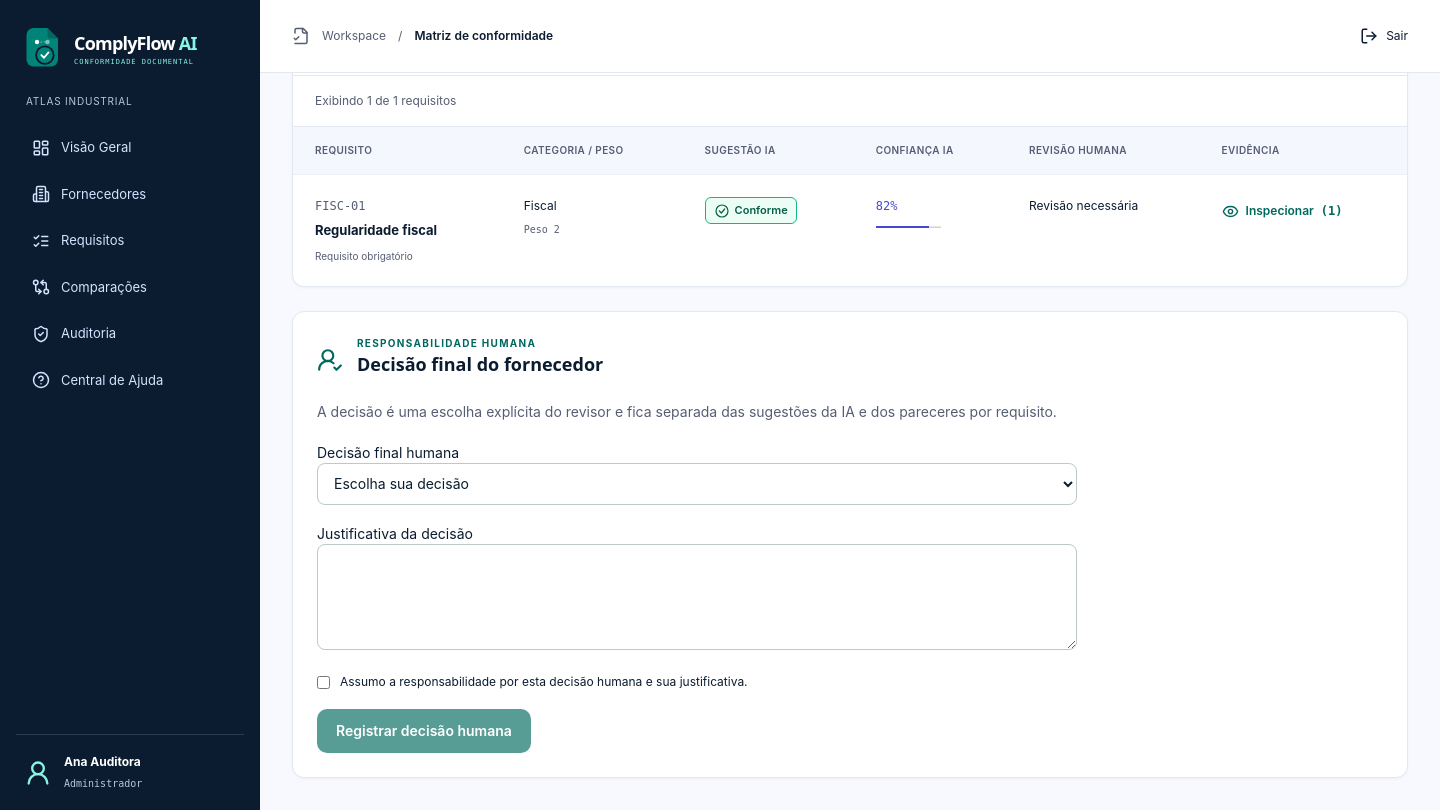
it: Human decision journey › reuses the idempotency key after an uncertain response and hides decision controls for analysts
The image size is (1440, 810).
(page scrolled)
Select "Condicionar" in the dropdown labelled "Decisão final humana" at (697, 484), box left=317, top=463, right=1077, bottom=505
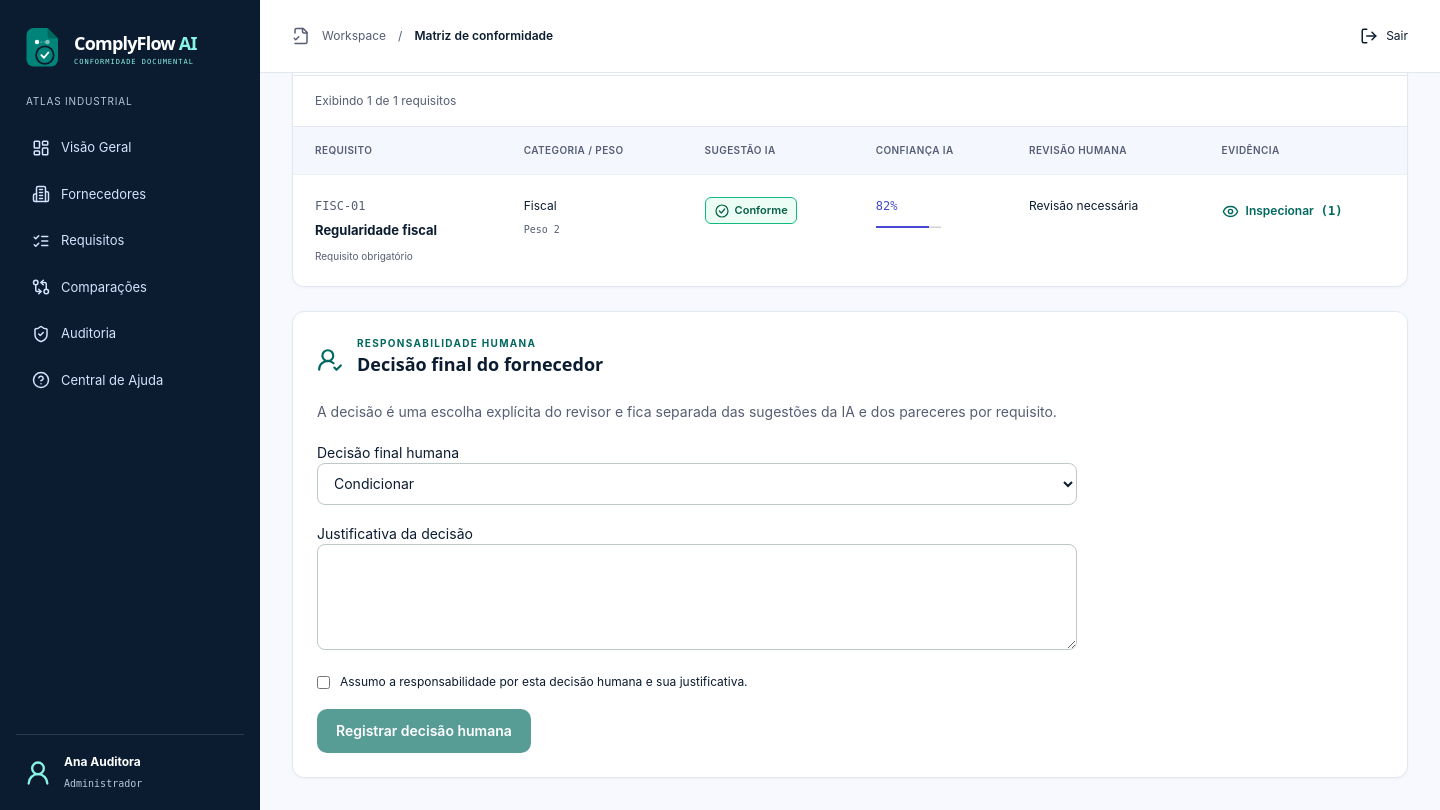
Type "Escopo limitado por revisão humana." into the text box labelled "Justificativa da decisão" at (697, 597), box left=317, top=544, right=1077, bottom=650
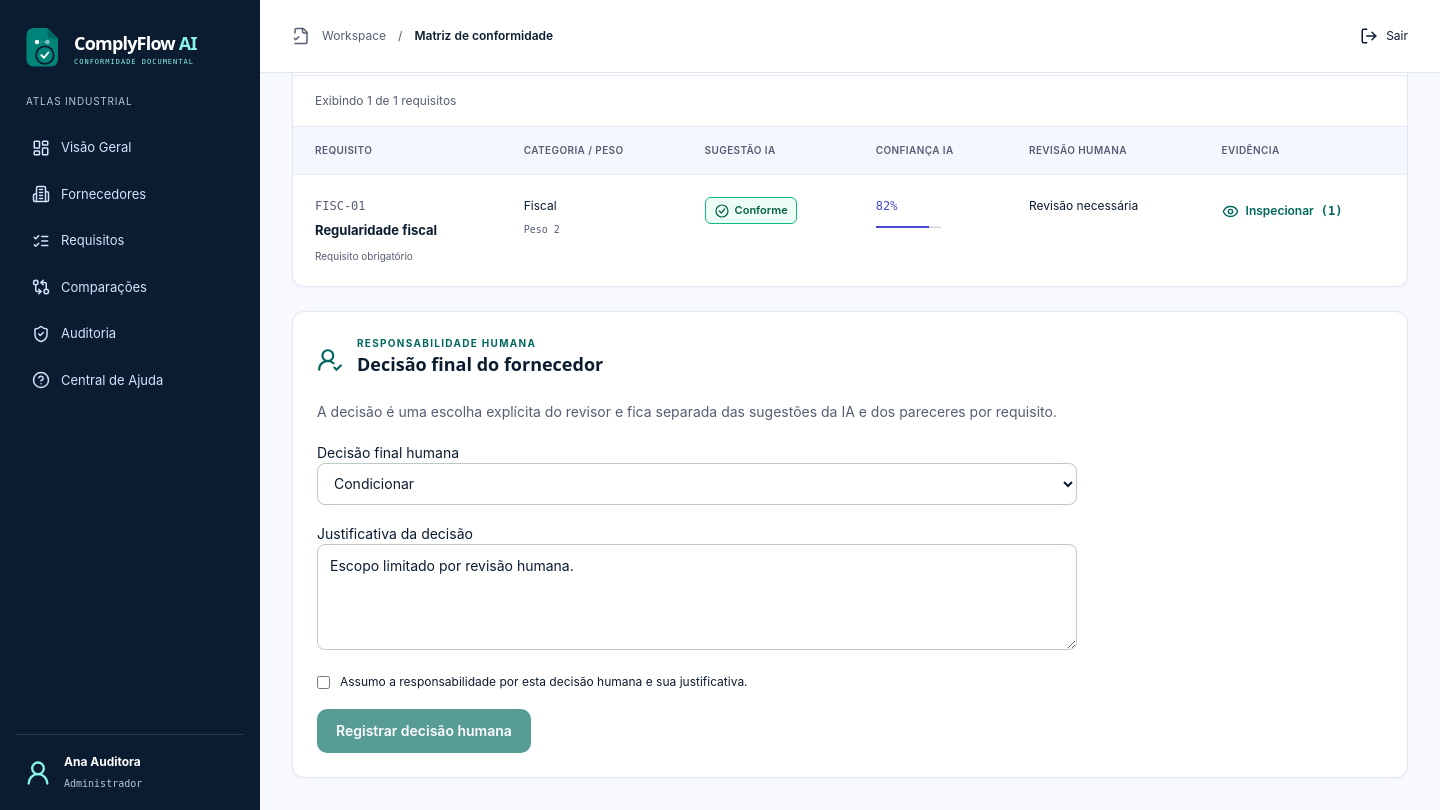
Click the checkbox labelled "Assumo a responsabilidade" at (324, 682), box left=317, top=676, right=330, bottom=689
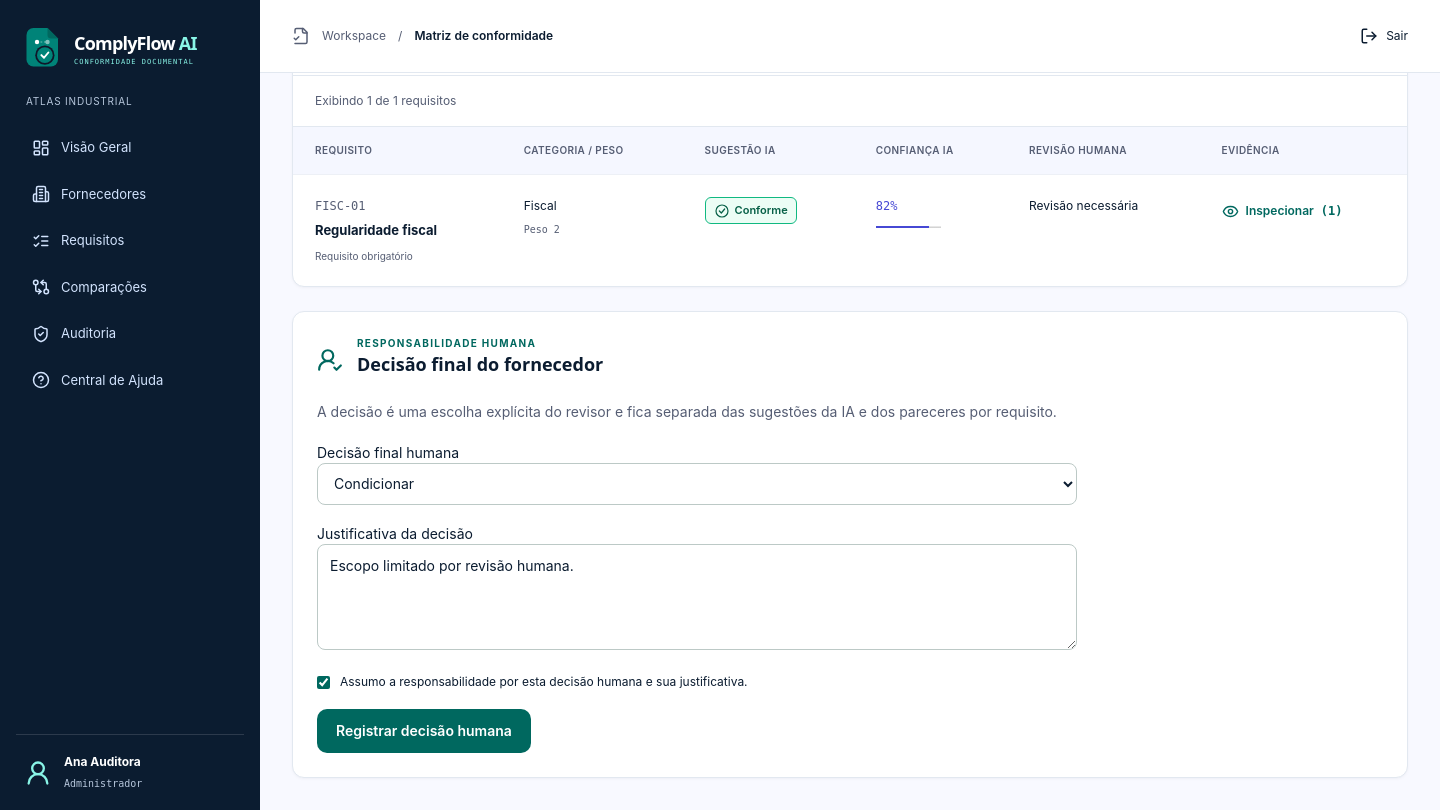
Click the button "Registrar decisão humana" at (424, 731), box left=317, top=709, right=531, bottom=753
(page scrolled)
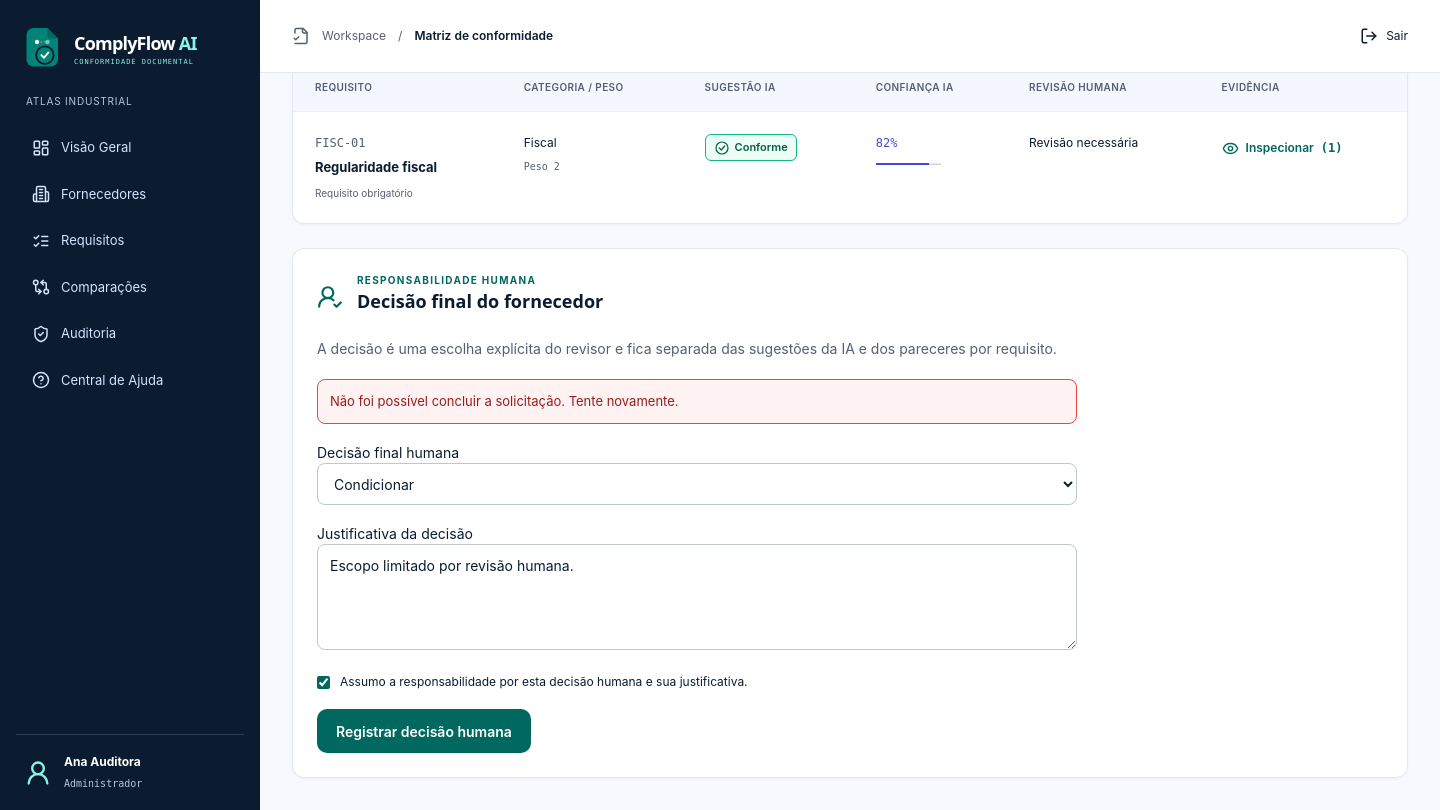
Result: the message "Não foi possível concluir a solicitação. Tente novamente." is shown at left=317, top=379, right=1077, bottom=424
Click the button "Registrar decisão humana" at (424, 731), box left=317, top=709, right=531, bottom=753
(page scrolled)
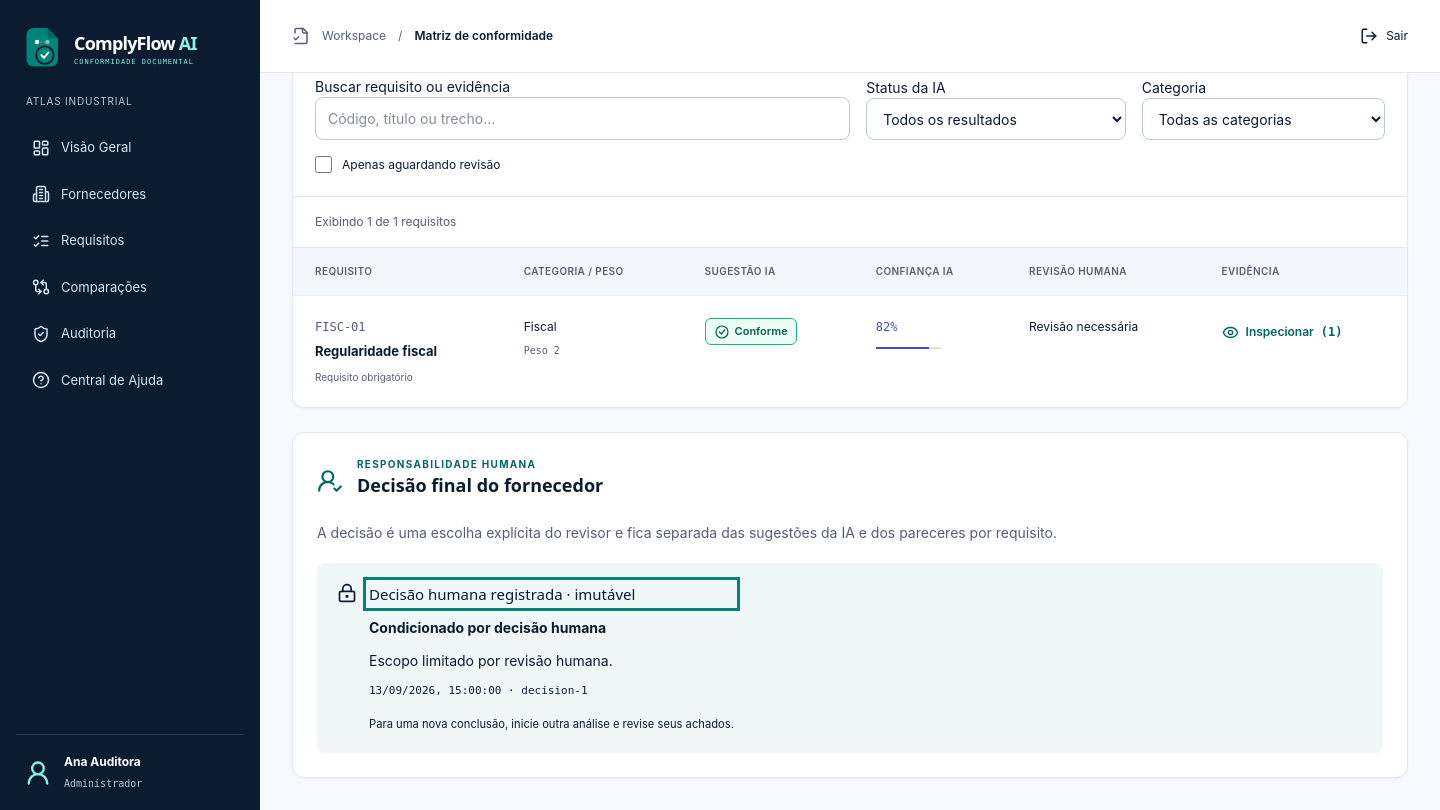
Result: the heading "Decisão humana registrada · imutável" is shown at left=369, top=584, right=635, bottom=604
